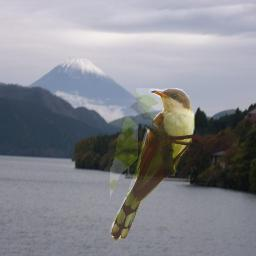Cuckoo: (110, 88, 195, 242)
